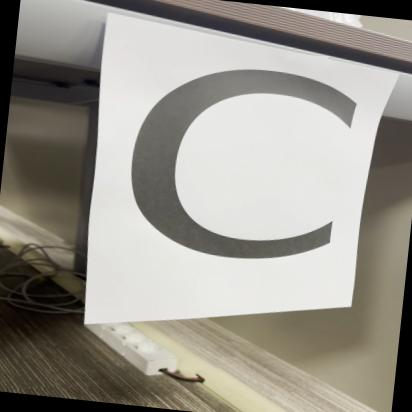seat: (94, 25, 370, 306)
